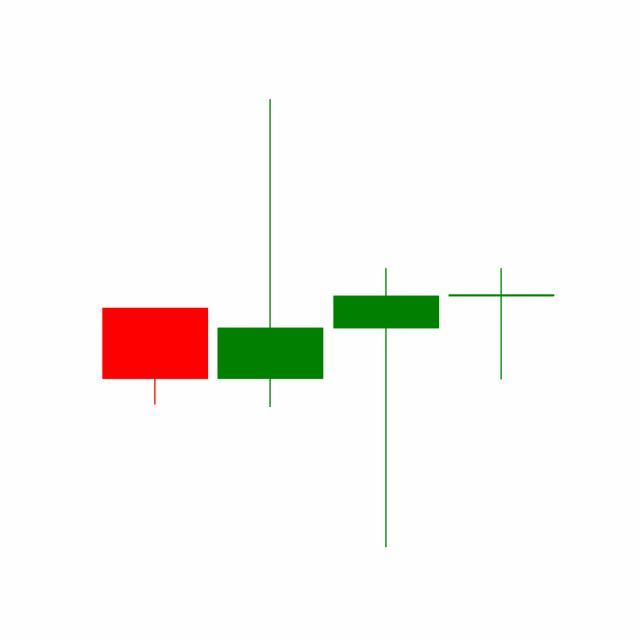Hanging Man: (444, 268, 560, 383)
